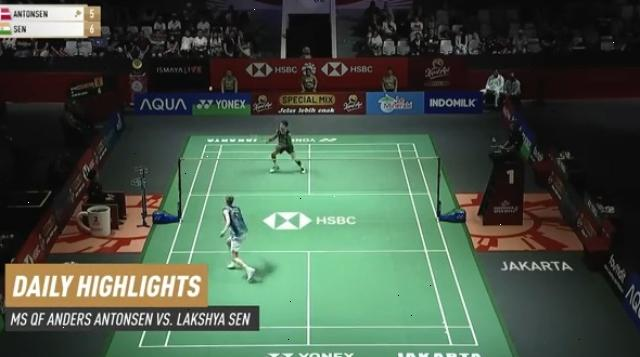Shuttlecock: (207, 83, 216, 93)
